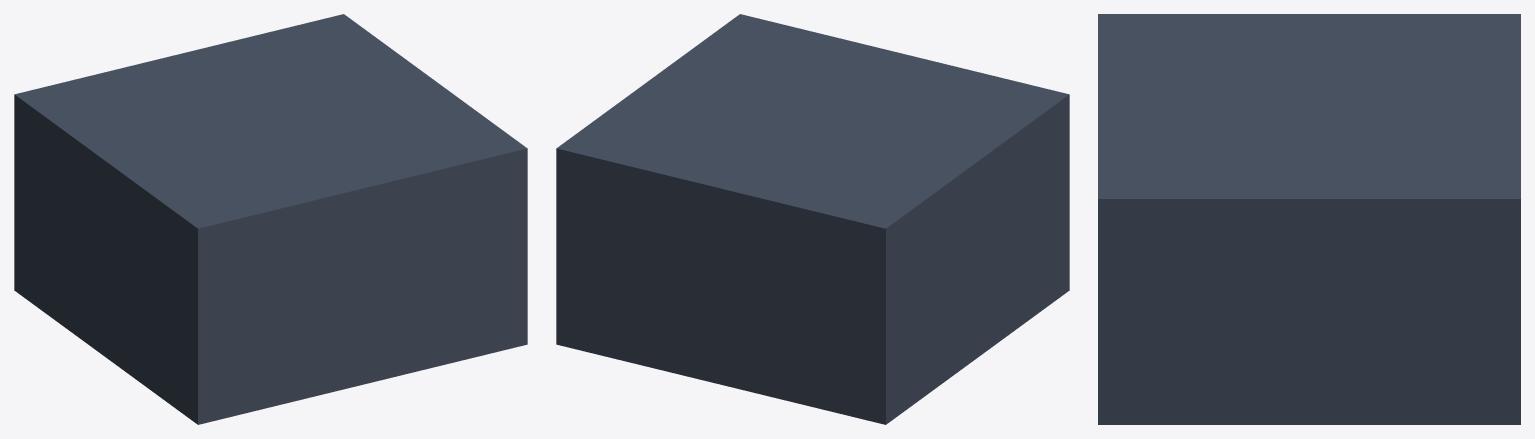
File: Helmet_Guard_3.glb
The picture shows the model from 3 angles, left to right: view 1: azimuth 30°, elevation 25°; view 2: azimuth 150°, elevation 25°; view 3: azimuth 270°, elevation 25°; orthographic projection. The views are drawn at different scales.
Bounding box in the file's own units: 0.58 × 0.33 × 0.56.
